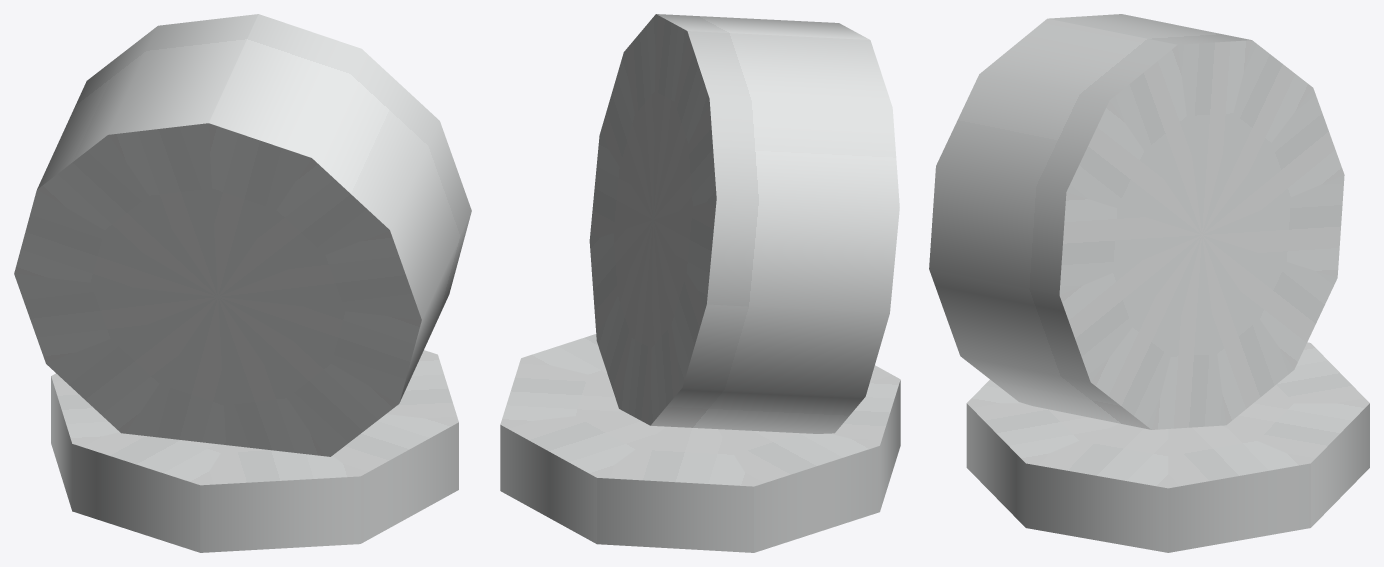
Rendered from trusssignalarm_stub_133.obj.
3 renders of one model, left to right at view 1: azimuth 30°, elevation 25°; view 2: azimuth 150°, elevation 25°; view 3: azimuth 270°, elevation 25°, orthographic. The views are drawn at different scales.
Parts seen in each view (by area): view 1: trusssignalarm_stub_133; view 2: trusssignalarm_stub_133; view 3: trusssignalarm_stub_133.
Part boxes in pixels (<box>): trusssignalarm_stub_133: <box>14,14,471,552</box>; trusssignalarm_stub_133: <box>500,14,900,552</box>; trusssignalarm_stub_133: <box>929,14,1369,552</box>.
Size of the model in its own units: 0.3827 by 0.409 by 0.3827.
